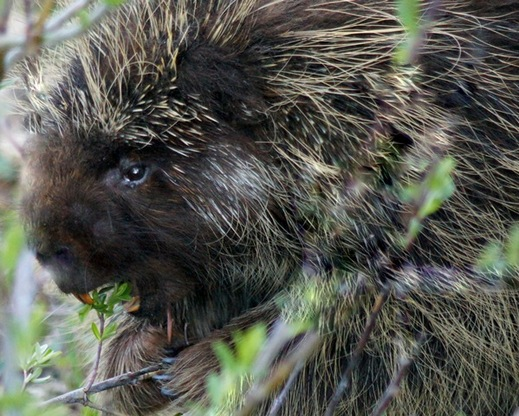porcupine: (5, 2, 519, 416)
